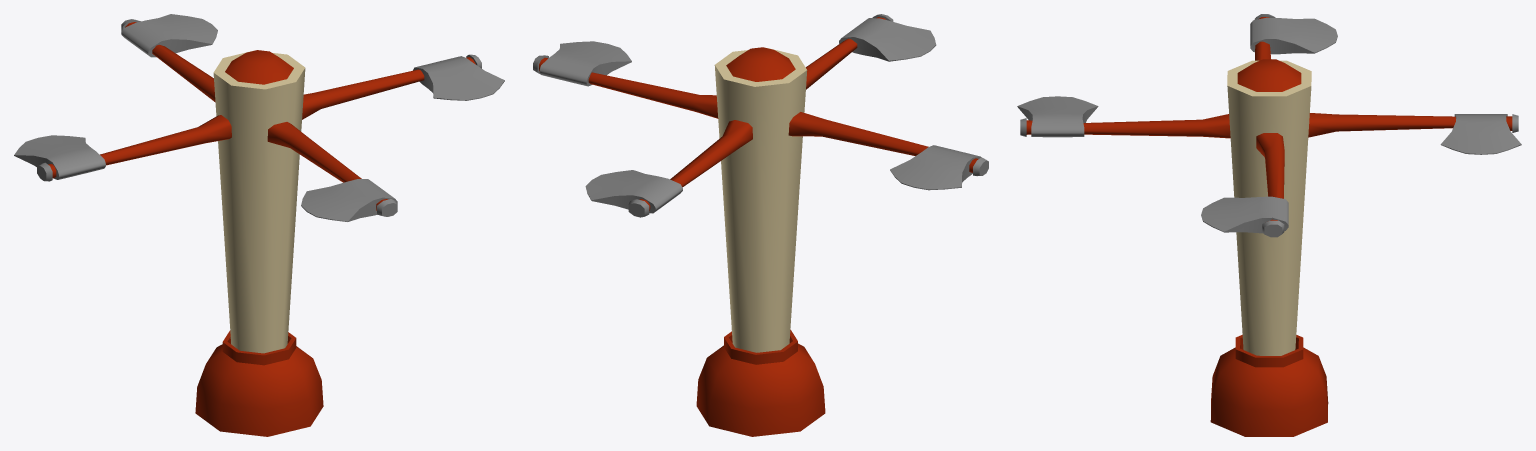
The model's file is Baltalar.fbx.
3 renders of one model, left to right at view 1: azimuth 30°, elevation 25°; view 2: azimuth 150°, elevation 25°; view 3: azimuth 270°, elevation 25°, orthographic. The views are drawn at different scales.
Visible parts, largest first — view 1: Baltalar, BaltalarBase; view 2: Baltalar, BaltalarBase; view 3: Baltalar, BaltalarBase.
Part boxes in pixels (x1,y1,x2,y2): Baltalar: (14,14,504,353); BaltalarBase: (195,330,323,436); Baltalar: (533,14,988,352); BaltalarBase: (696,329,825,436); Baltalar: (1017,14,1521,355); BaltalarBase: (1210,334,1328,436).
Bounding box in the file's own units: 122 × 92.39 × 122.
